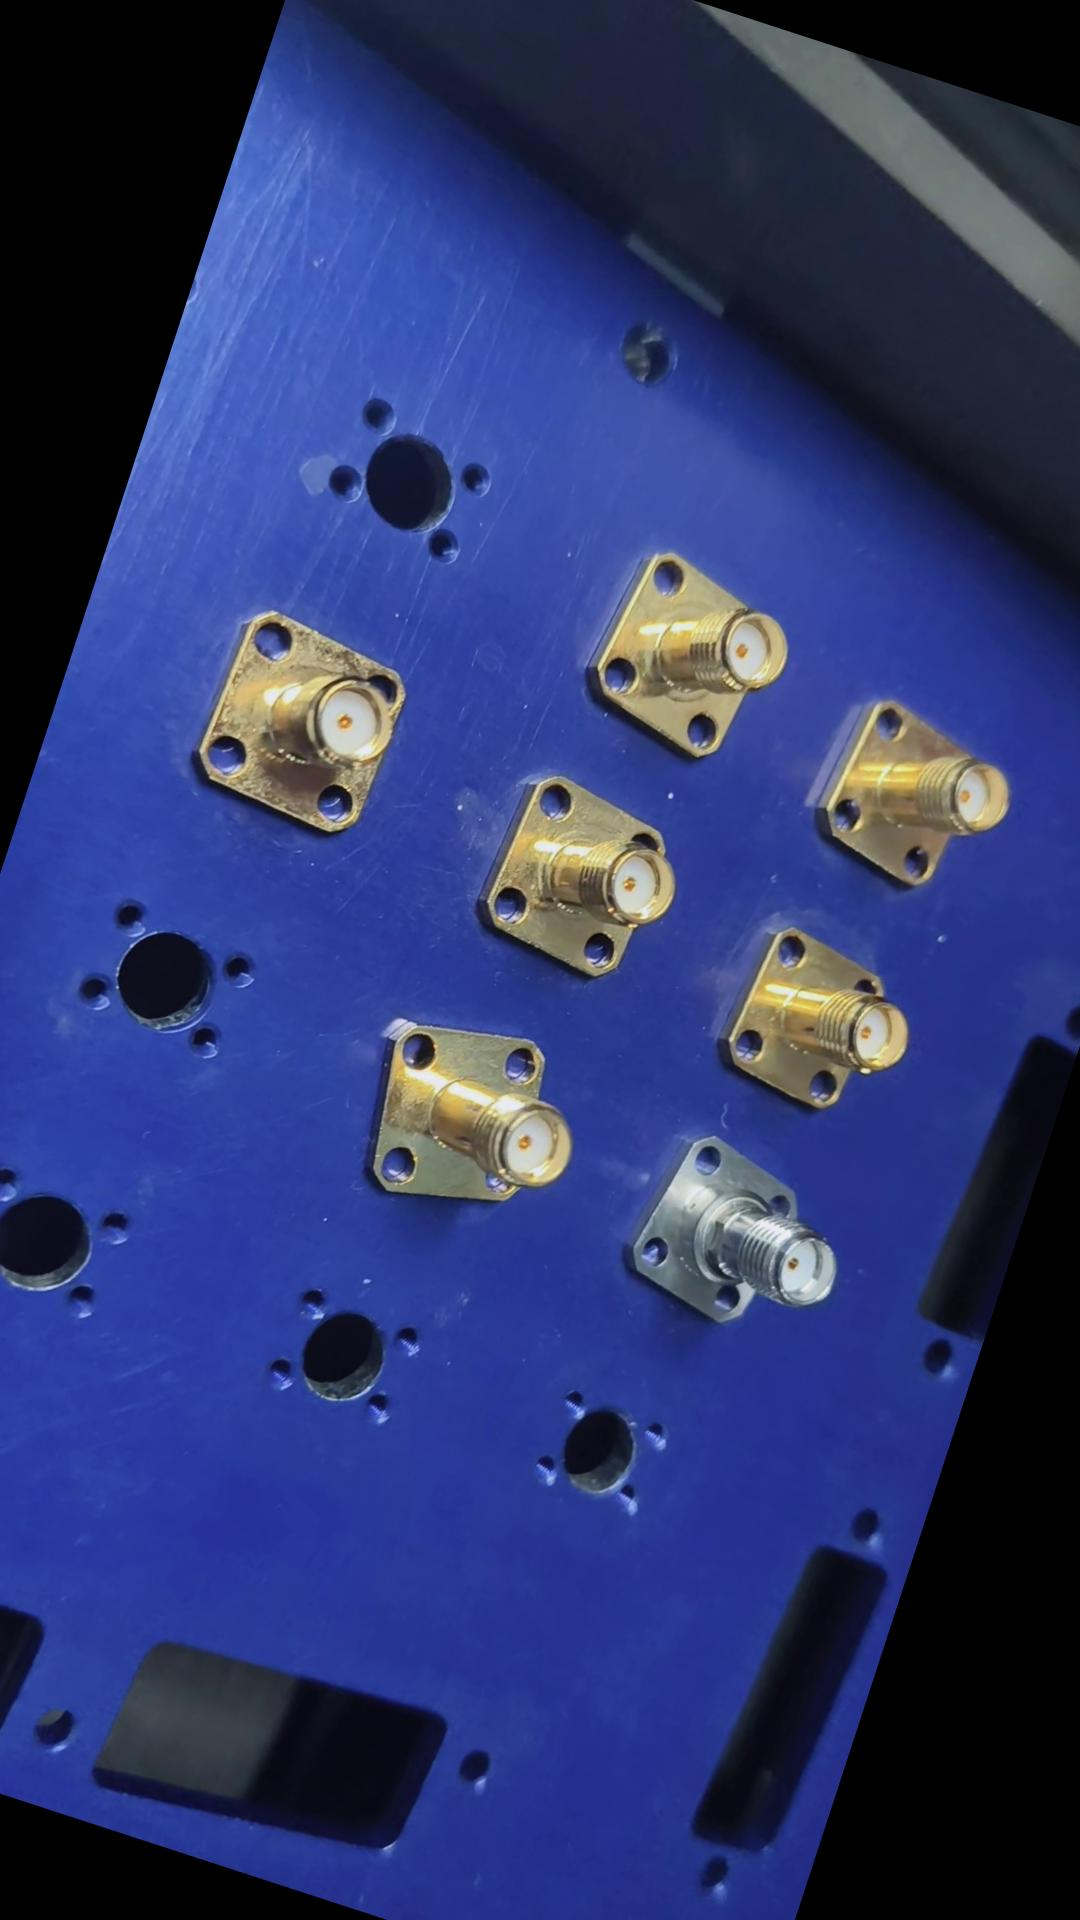SMA: (331, 990, 603, 1250), (558, 531, 804, 778), (175, 596, 419, 841), (456, 758, 698, 996), (611, 1120, 862, 1346), (791, 687, 1025, 913), (702, 915, 928, 1126)
